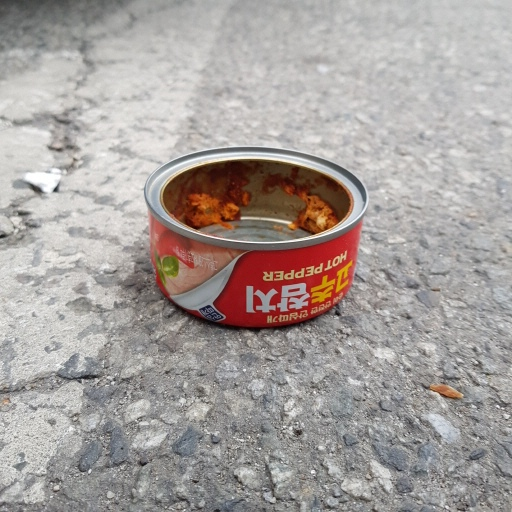Metal_1: (140, 145, 369, 327)
